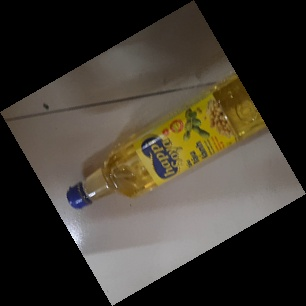Happy Soya: (64, 66, 279, 212)
